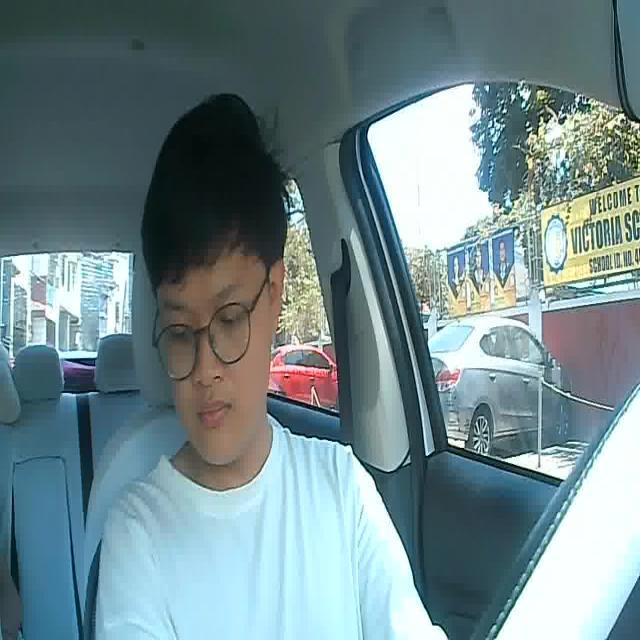Eye-Open: (162, 321, 199, 346), (212, 306, 249, 330)
Inattentive: (138, 91, 283, 466)
Normal: (197, 397, 233, 429)
